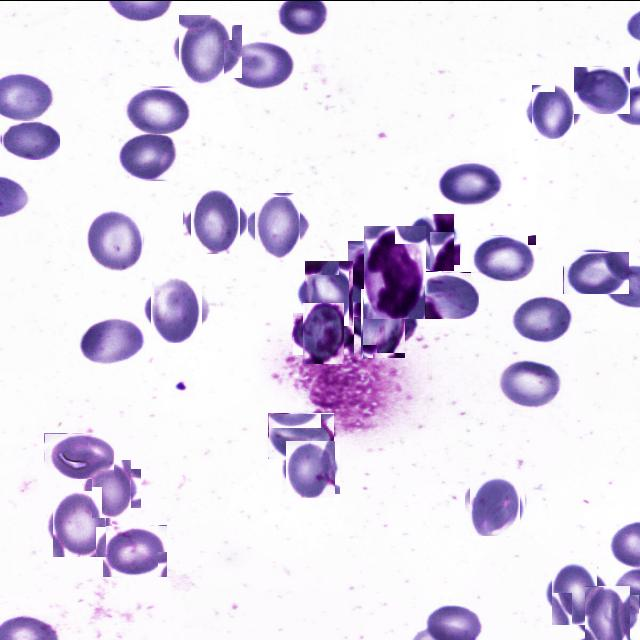leukocyte: (356, 232, 434, 310)
red blood cell: (174, 19, 238, 82), (82, 209, 144, 271), (49, 493, 109, 553), (224, 39, 294, 90), (508, 292, 576, 344), (101, 524, 168, 576), (148, 280, 206, 338), (354, 293, 412, 351), (496, 358, 563, 408), (78, 316, 146, 364), (187, 192, 244, 249), (300, 264, 358, 320), (124, 85, 190, 134), (44, 432, 114, 478), (250, 198, 306, 254), (546, 563, 602, 619), (435, 161, 504, 205), (470, 234, 536, 280), (268, 412, 334, 458), (468, 478, 522, 532), (284, 442, 338, 495), (563, 250, 629, 293), (118, 132, 177, 180), (580, 589, 634, 640), (405, 215, 457, 267), (298, 307, 349, 359), (574, 66, 630, 113), (424, 271, 479, 318), (529, 86, 578, 136), (87, 463, 136, 512), (1, 119, 60, 159)
